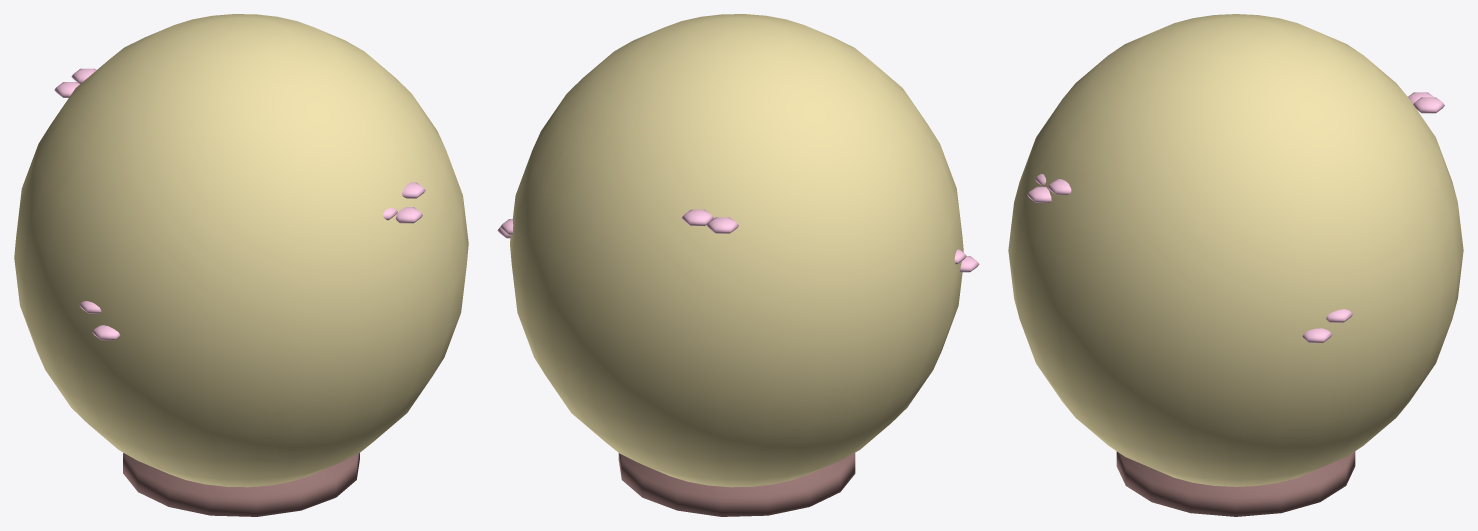
Rendered from egg_desert_01.glb.
3 views of the same model, side by side, from view 1: azimuth 30°, elevation 25°; view 2: azimuth 150°, elevation 25°; view 3: azimuth 270°, elevation 25° (orthographic).
Parts seen in each view (by area): view 1: ball; view 2: ball; view 3: ball.
Part boxes in pixels (bbox=[...]): ball: bbox=[14, 14, 468, 516]; ball: bbox=[497, 14, 979, 516]; ball: bbox=[1008, 14, 1463, 516].
Bounding box in the file's own units: 0.84 × 0.88 × 0.84.
